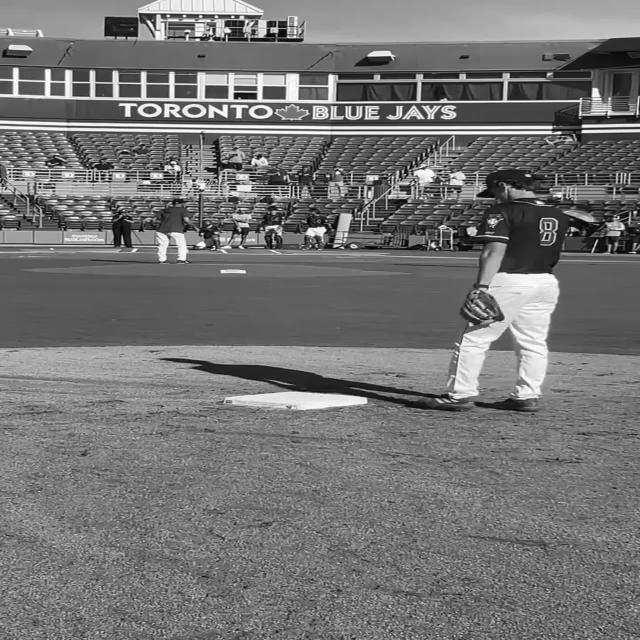base: (222, 392, 371, 408)
baseball: (48, 248, 54, 250)
baseball_glove: (458, 288, 504, 326)
shoe: (418, 395, 476, 410), (491, 398, 541, 412), (175, 260, 191, 264), (159, 260, 169, 264)
